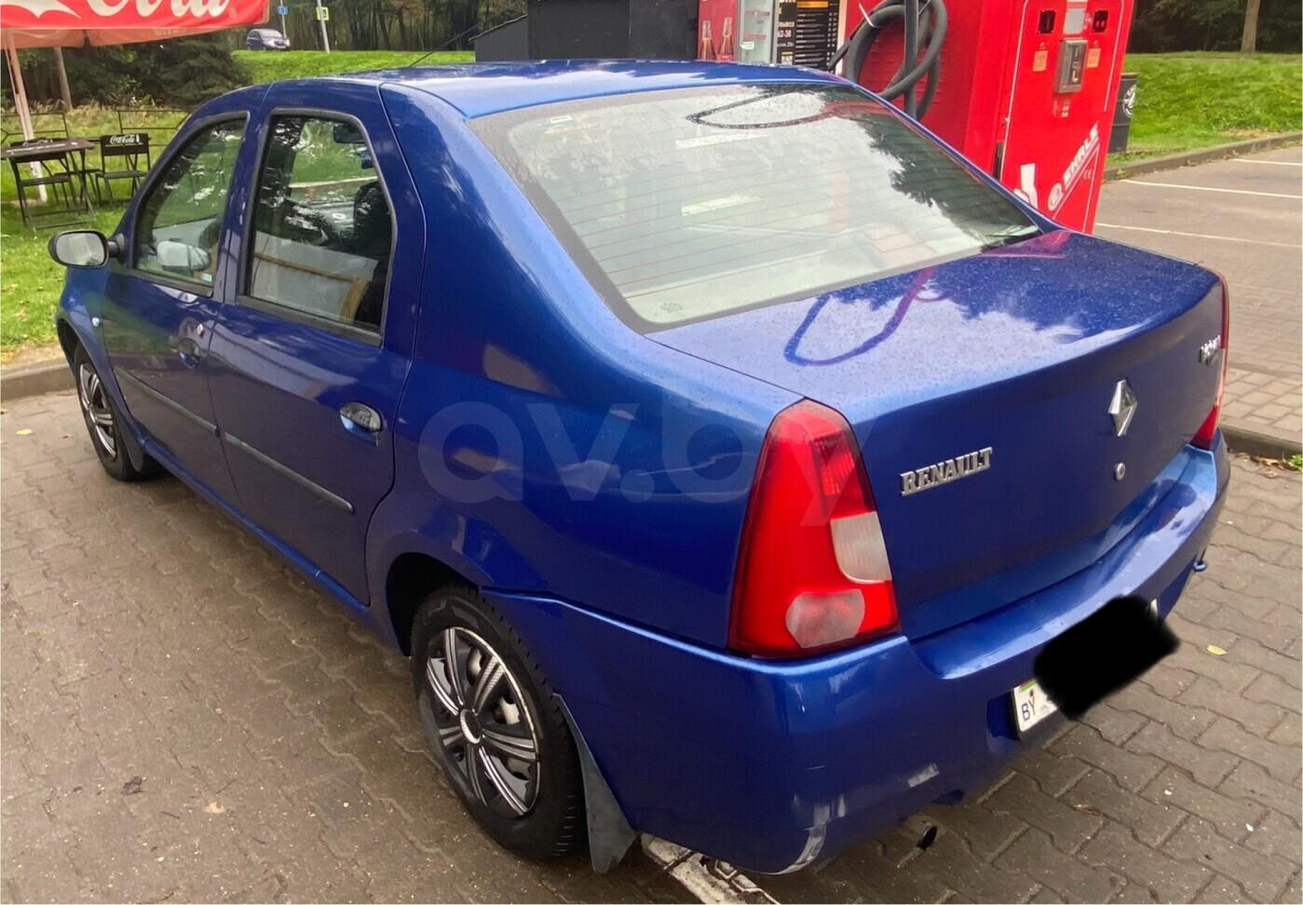Logan_2004-2009: (48, 64, 1238, 879)
